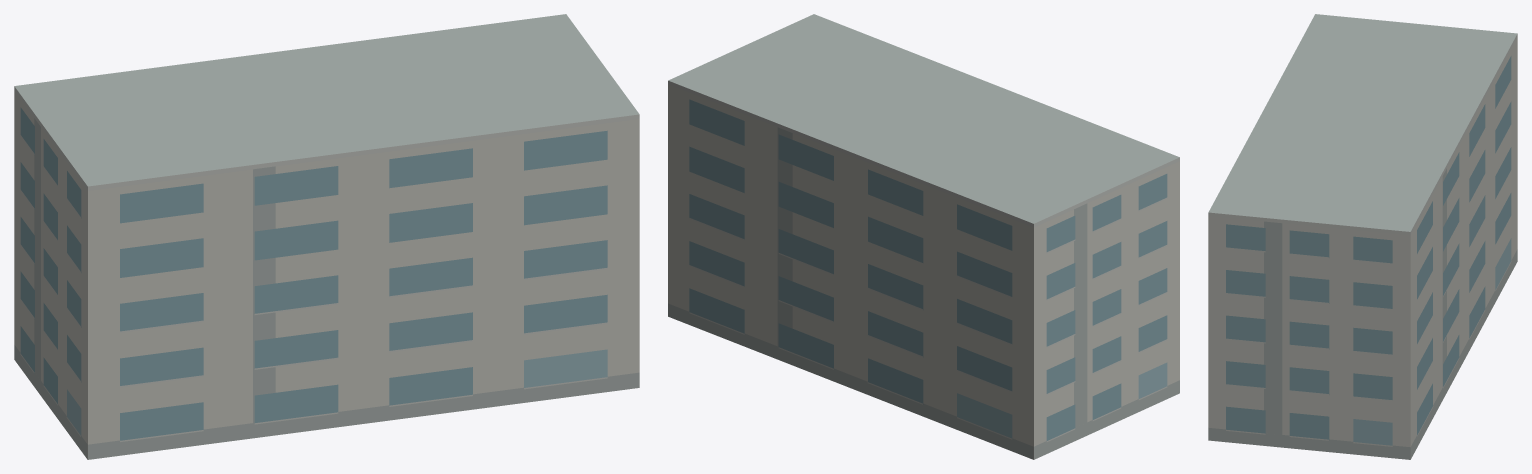
File: residential-a801adcc-c63f-4585-9c78-75bb91f45497.glb
3 views of the same model, side by side, from view 1: azimuth 30°, elevation 25°; view 2: azimuth 150°, elevation 25°; view 3: azimuth 270°, elevation 25° (orthographic). The views are drawn at different scales.
Visible parts, largest first — view 1: residential-a801adcc-c63f-4585-9c78-75bb91f45497.tmp; view 2: residential-a801adcc-c63f-4585-9c78-75bb91f45497.tmp; view 3: residential-a801adcc-c63f-4585-9c78-75bb91f45497.tmp.
Boxes of the visible parts, x1,y1,x2,y2 form: residential-a801adcc-c63f-4585-9c78-75bb91f45497.tmp: [14, 14, 639, 459]; residential-a801adcc-c63f-4585-9c78-75bb91f45497.tmp: [668, 14, 1179, 459]; residential-a801adcc-c63f-4585-9c78-75bb91f45497.tmp: [1208, 14, 1517, 459].
Bounding box in the file's own units: 31.28 × 15.25 × 18.76.
